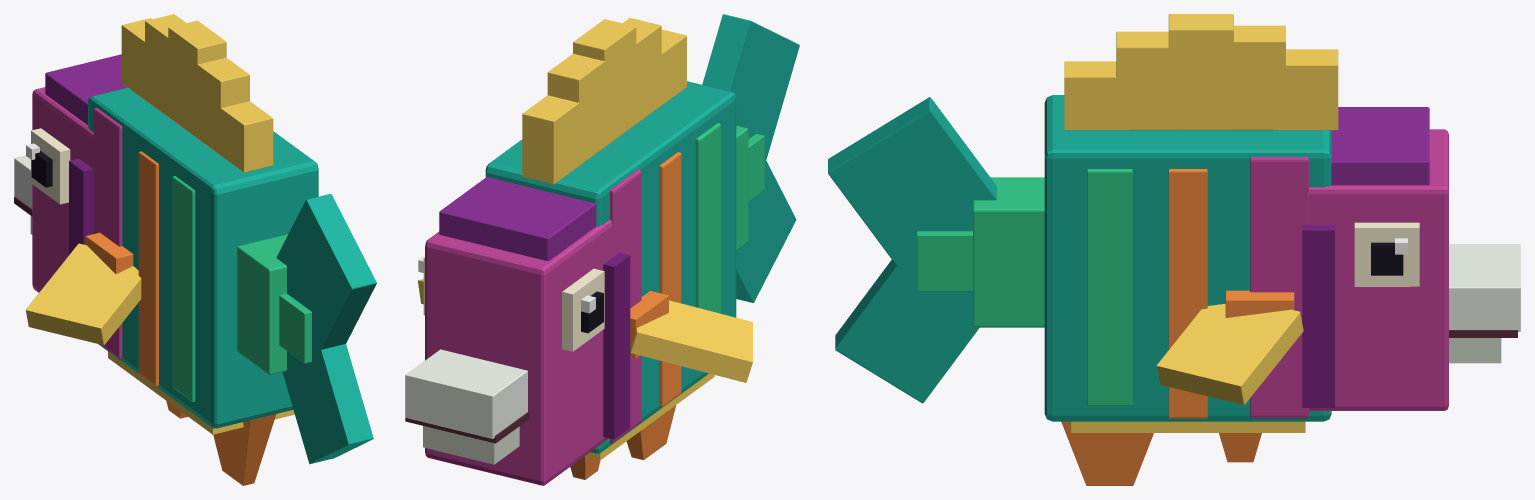
Rendered from parrotfish.glb.
3 renders of one model, left to right at view 1: azimuth 30°, elevation 25°; view 2: azimuth 150°, elevation 25°; view 3: azimuth 270°, elevation 25°, orthographic. The views are drawn at different scales.
Visible parts, largest first — view 1: body, fin.tail, head, fin.R; view 2: head, body, fin.tail, fin.R; view 3: body, head, fin.tail, fin.L.
Boxes of the visible parts, x1,y1,x2,y2 form: body: (88, 14, 318, 485); fin.tail: (276, 194, 376, 463); head: (14, 54, 127, 292); fin.R: (25, 232, 141, 345); head: (405, 177, 630, 485); body: (485, 18, 748, 479); fin.tail: (702, 14, 799, 302); fin.R: (630, 291, 752, 382); body: (973, 14, 1338, 485); head: (1302, 107, 1520, 410); fin.tail: (828, 97, 996, 403); fin.L: (1156, 290, 1303, 404).
Size of the model in its own units: 0.7814 by 1 by 1.36.
